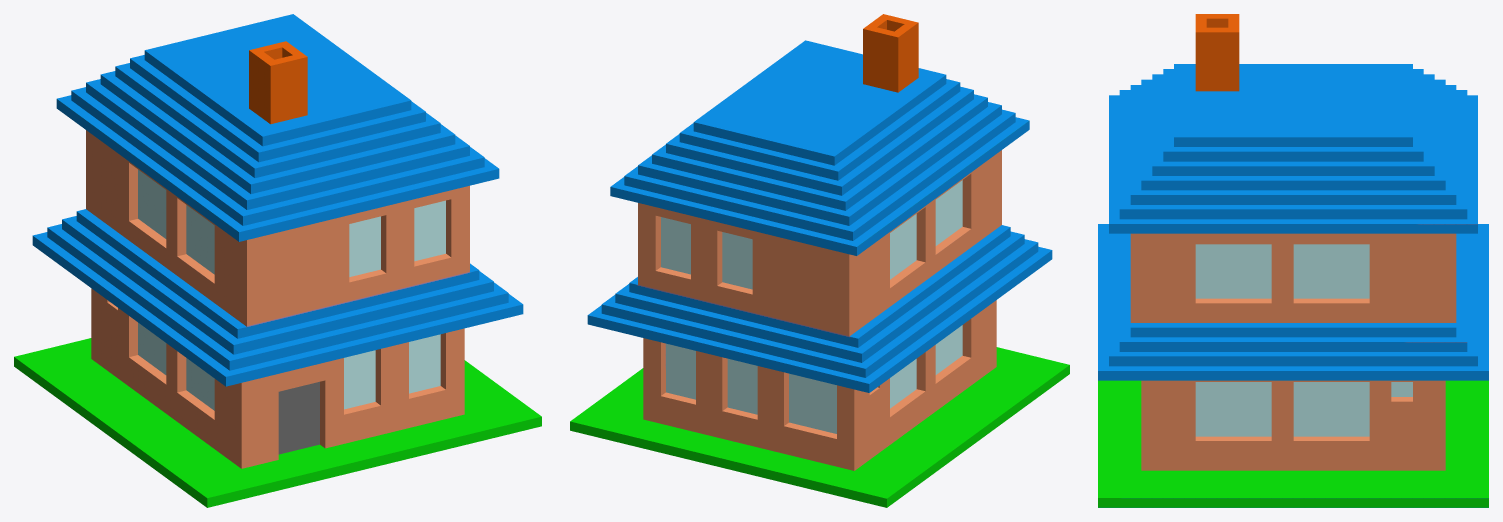
Rendered from building_13.fbx.
The picture shows the model from 3 angles, left to right: view 1: azimuth 30°, elevation 25°; view 2: azimuth 150°, elevation 25°; view 3: azimuth 270°, elevation 25°; orthographic projection. The views are drawn at different scales.
Visible parts, largest first — view 1: building_13; view 2: building_13; view 3: building_13.
Boxes of the visible parts, box(x1,y1,x2,y2) form: building_13: box(14, 14, 541, 507); building_13: box(570, 14, 1069, 507); building_13: box(1098, 14, 1488, 507).
Bounding box in the file's own units: 360 × 390 × 360.
1 material, 1 textured.
